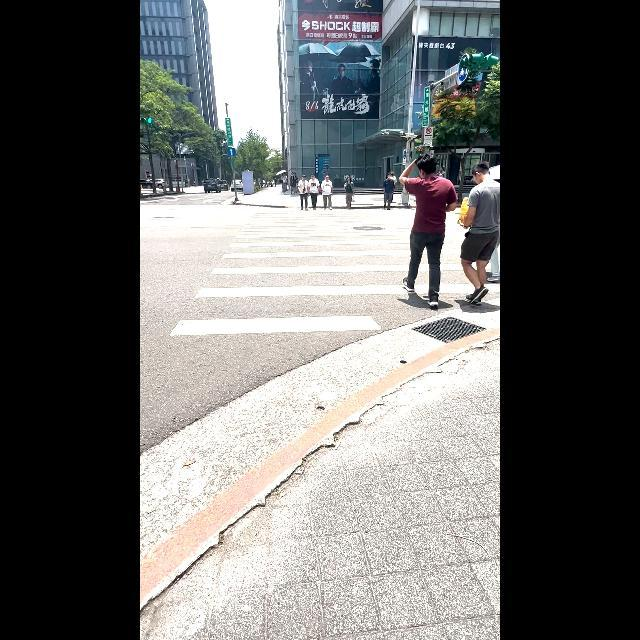sidewalk: (171, 209, 500, 335)
